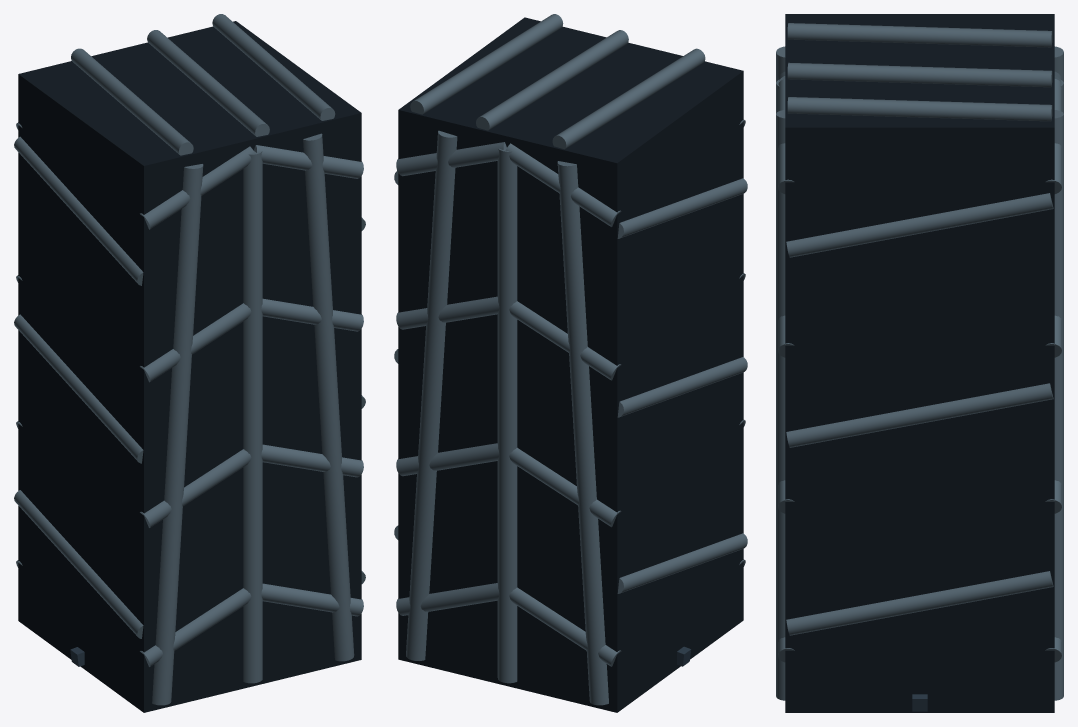
The model's file is CMU3DHiveWallXenoResinThickWeedbound.glb.
3 views of the same model, side by side, from view 1: azimuth 30°, elevation 25°; view 2: azimuth 150°, elevation 25°; view 3: azimuth 270°, elevation 25° (orthographic). The views are drawn at different scales.
Parts seen in each view (by area): view 1: continuous sealed resin core, vertical exoskeletal rib (×3), front and rear sweeping rib (×8), roof rib (×3), finished side rib (×3); view 2: continuous sealed resin core, vertical exoskeletal rib (×3), front and rear sweeping rib (×8), roof rib (×3), finished side rib (×3); view 3: continuous sealed resin core, roof rib (×3), finished side rib (×3), vertical exoskeletal rib (×2), front and rear sweeping rib (×2).
Boxes of the visible parts, x1,y1,x2,y2 form: continuous sealed resin core: (18,21,361,712); vertical exoskeletal rib (×3): (152,133,354,705); front and rear sweeping rib (×8): (140,145,363,666); roof rib (×3): (71,14,335,155); finished side rib (×3): (14,136,143,638); continuous sealed resin core: (398,17,743,712); vertical exoskeletal rib (×3): (406,130,608,705); front and rear sweeping rib (×8): (396,142,621,666); roof rib (×3): (410,14,705,149); finished side rib (×3): (617,178,747,593); continuous sealed resin core: (785,14,1054,712); roof rib (×3): (787,23,1052,121); finished side rib (×3): (786,193,1053,635); vertical exoskeletal rib (×2): (776,110,1063,700); front and rear sweeping rib (×2): (778,79,1061,193).
Size of the model in its own units: 1.07 by 2.45 by 1.07.
